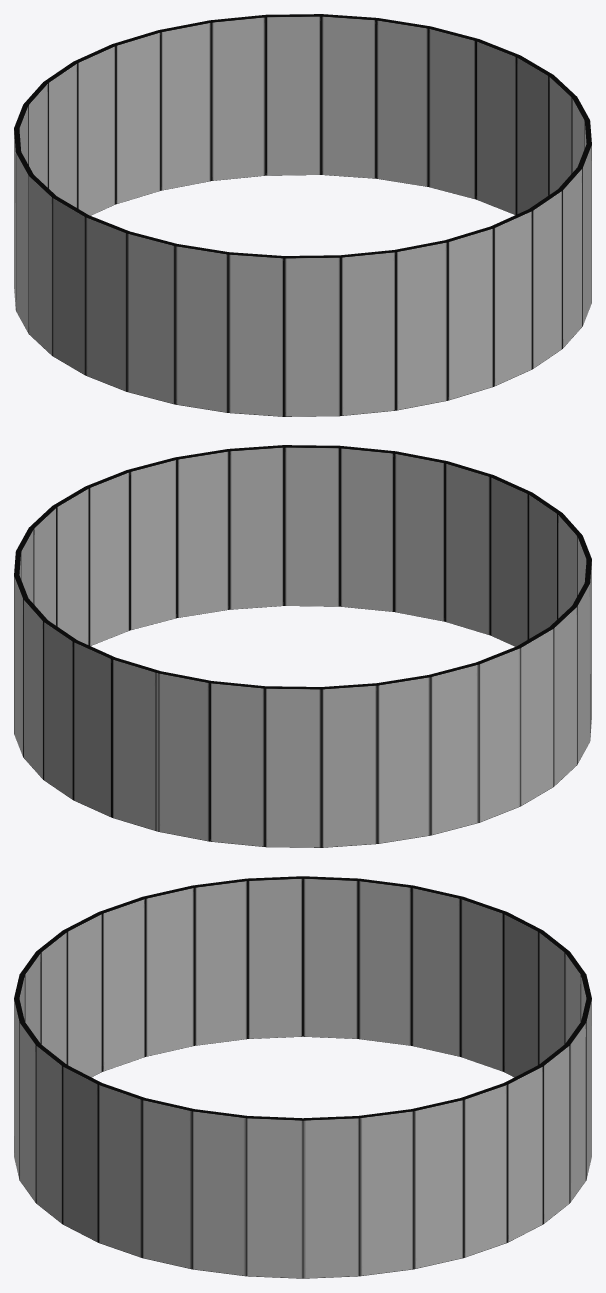
The model's file is enemyStun.obj.
3 renders of one model, top to bottom at view 1: azimuth 30°, elevation 25°; view 2: azimuth 150°, elevation 25°; view 3: azimuth 270°, elevation 25°, orthographic.
Visible parts, largest first — view 1: 円柱; view 2: 円柱; view 3: 円柱.
Part boxes in pixels (x1,y1,x2,y2): 円柱: (14,14,591,416); 円柱: (14,445,591,847); 円柱: (14,876,591,1278).
Bounding box in the file's own units: 2 × 0.6043 × 2.
1 material, 1 textured.
